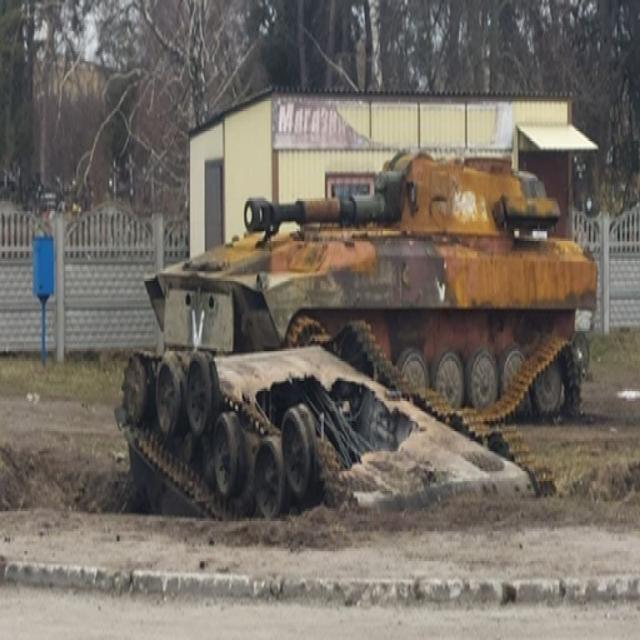ART: (149, 138, 596, 442)
